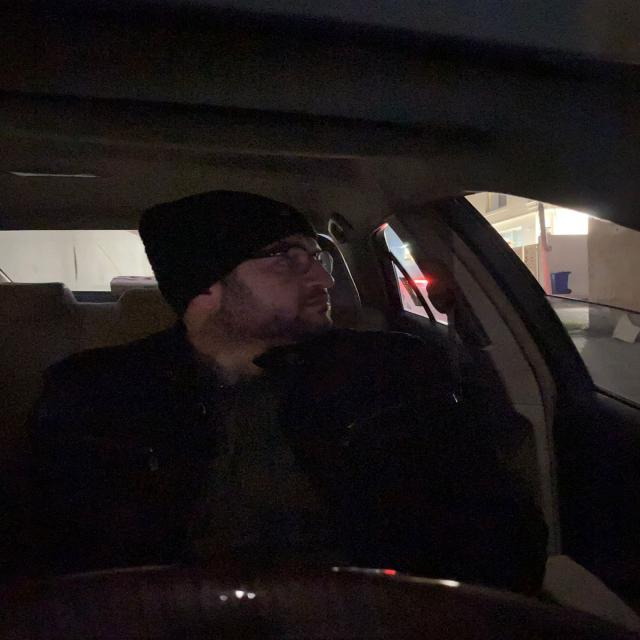LeftRight: (141, 202, 351, 338)
